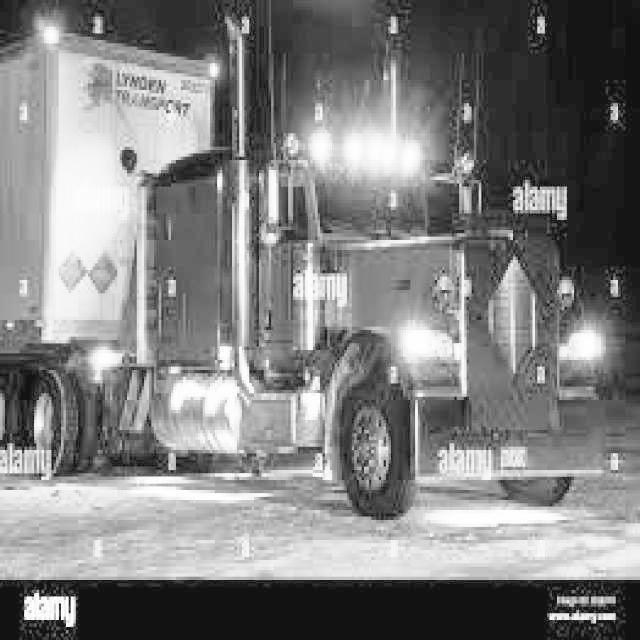Truck: (0, 0, 603, 520)
